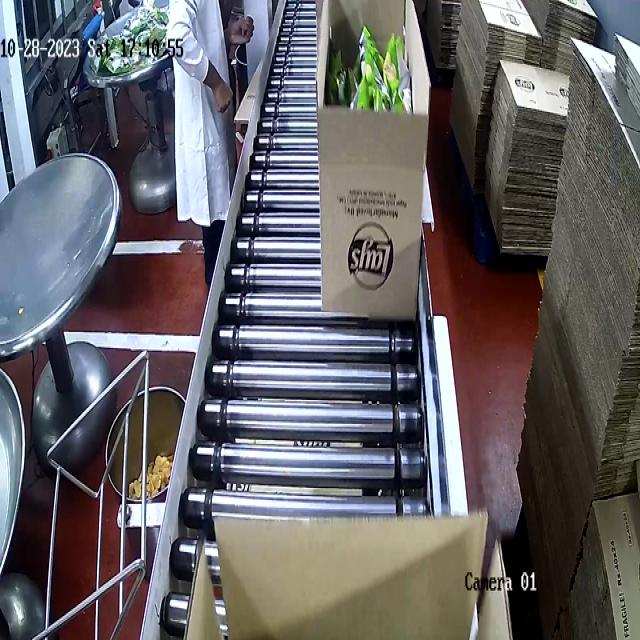YOGURT_HERB: (328, 25, 420, 114)
